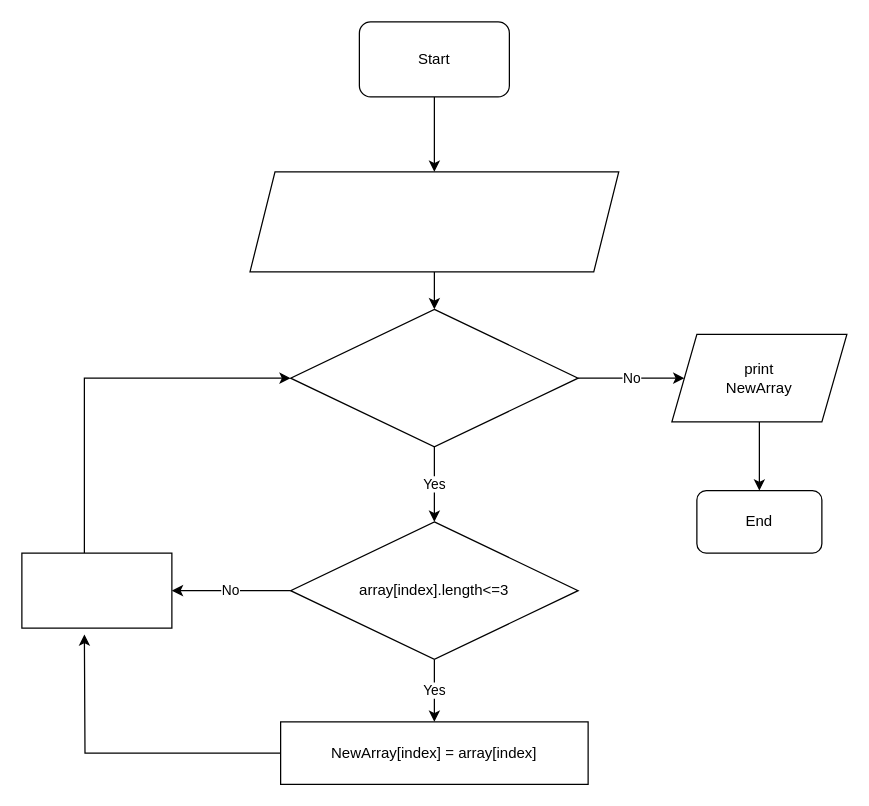
Image size: 869x806. Some labels were removed from this diagram. The shapes that lost their labels are listed below. From the top down, each one's centre as x and y in pixels, then its label:
(434,221): array = ["1234", "1567", "-2", "computer science'] size = 4 index=0
(433,377): index<size
(96,590): index = index + 1
